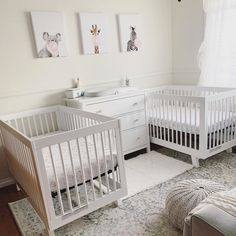crib: (0, 106, 126, 234), (146, 86, 235, 166)
